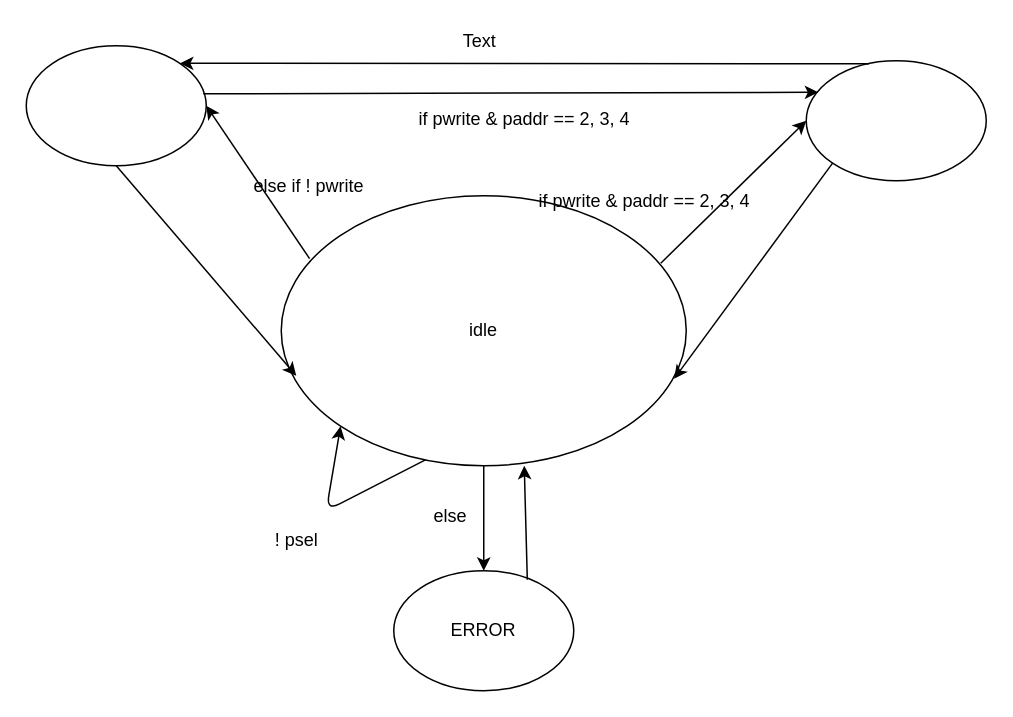
The diagram is 1013 pixels wide and 717 high, and some of its shapes have lost their labels. Here are the shapes that lost their labels. From the top down, the centre of each, then its label:
the point at 115,105: read
the point at 895,120: write
